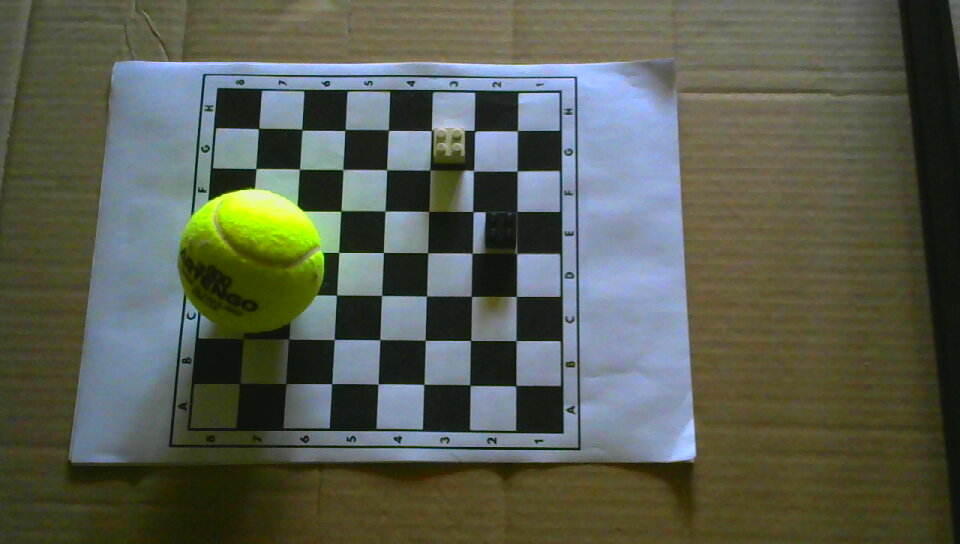bp: (484, 209, 517, 250)
wp: (432, 127, 467, 166)
